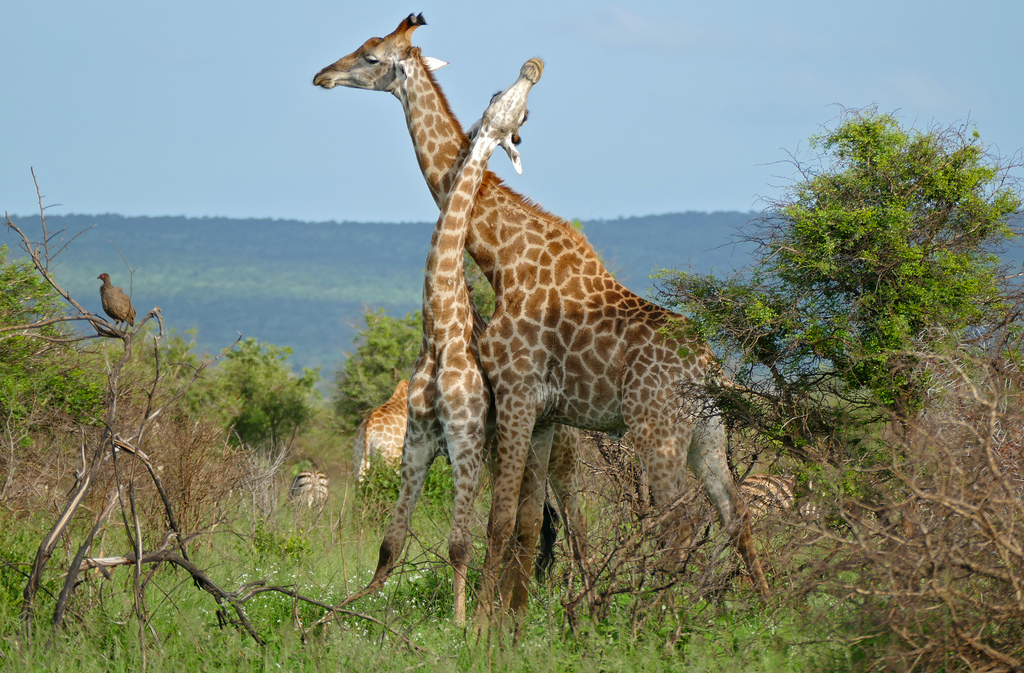giraffe: (331, 17, 744, 594), (370, 35, 558, 587)
